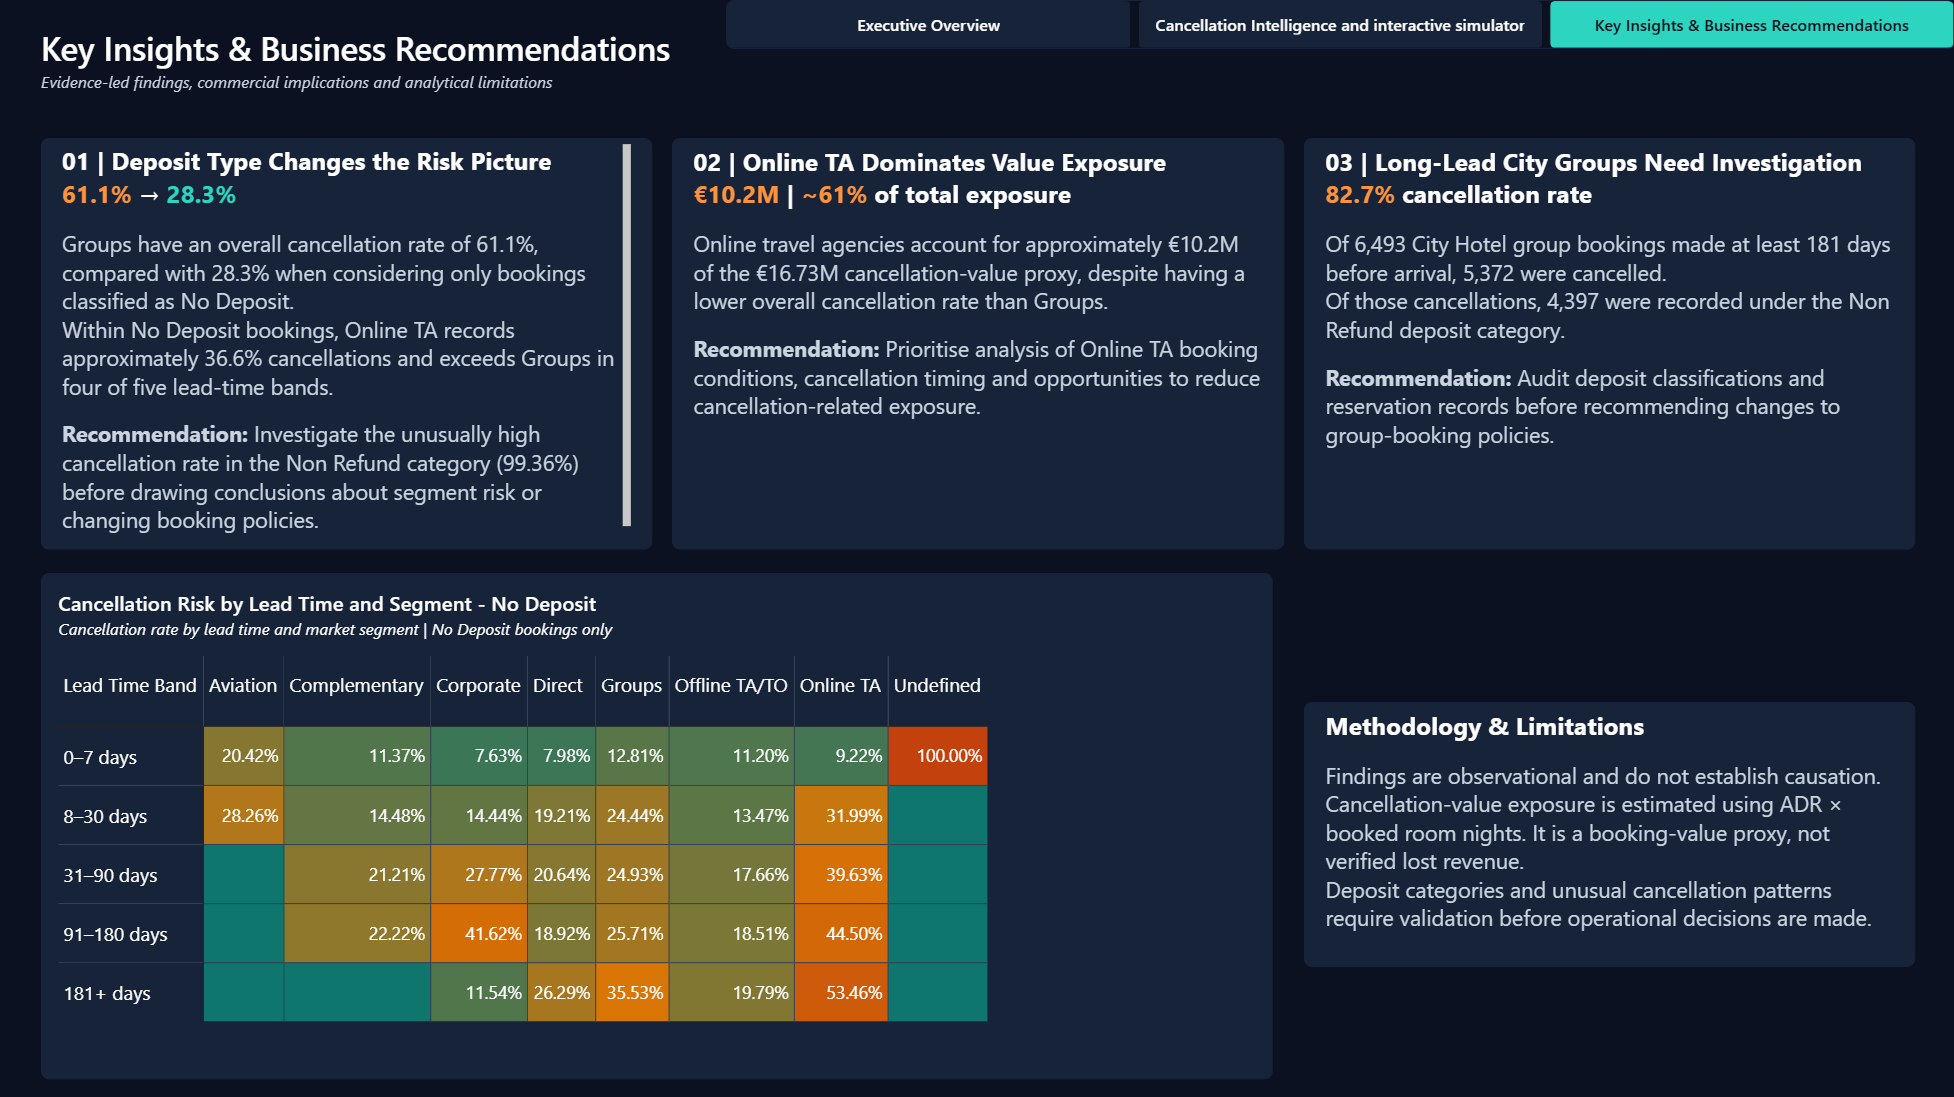

What the dashboard file says about the page in this screenshot:
{"tool":"powerbi","page":{"name":"Key Insights & Business Recommendations","canvas":[1920,1080],"ordinal":2},"visuals":[{"type":"textbox","title":"Key Insights & Business Recommendations","box":[40.2,24.5,1839.5,76.6],"z":0},{"type":"pivotTable","title":"Cancellation Risk by Lead Time and Segment - No Deposit","fields":{"Columns":["DimSegment.MarketSegment"],"Rows":["FactBookings.Lead Time Band"],"Values":["FactBookings.Cancellation Rate"]},"box":[40.2,562.5,1209.3,496.7],"z":1000},{"type":"textbox","box":[40.2,135.5,599.8,404.4],"z":2000},{"type":"textbox","box":[659.6,135.5,600.7,404.4],"z":3000},{"type":"textbox","box":[1280,135.5,599.8,404.4],"z":4000},{"type":"textbox","box":[1280,689.1,599.8,260],"z":5000},{"type":"pageNavigator","box":[713,0,1207,48],"z":5001}]}

Visuals, with their boxes in screenshot pixels (x1, y1, x2, y2), scaled from the page's 1920x1080 canvas onto the 1954x1097 screenshot:
"Key Insights & Business Recommendations" textbox: <bbox>41, 25, 1913, 103</bbox>
"Cancellation Risk by Lead Time and Segment - No Deposit" pivotTable: <bbox>41, 571, 1272, 1076</bbox>
textbox: <bbox>41, 138, 651, 548</bbox>
textbox: <bbox>671, 138, 1283, 548</bbox>
textbox: <bbox>1303, 138, 1913, 548</bbox>
textbox: <bbox>1303, 700, 1913, 964</bbox>
pageNavigator: <bbox>726, 0, 1953, 49</bbox>
